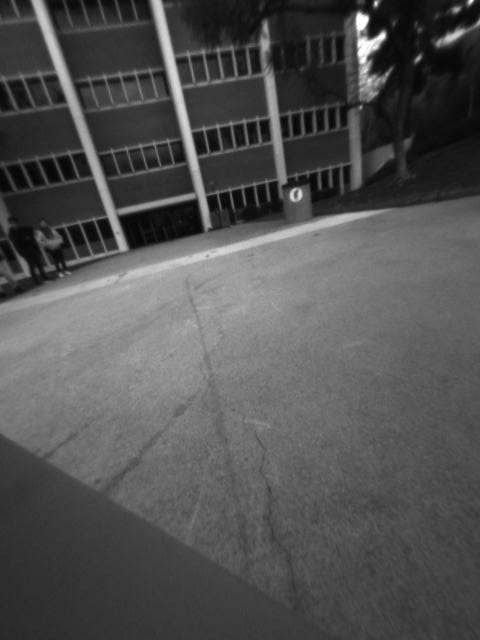trashcan: (279, 179, 316, 226)
